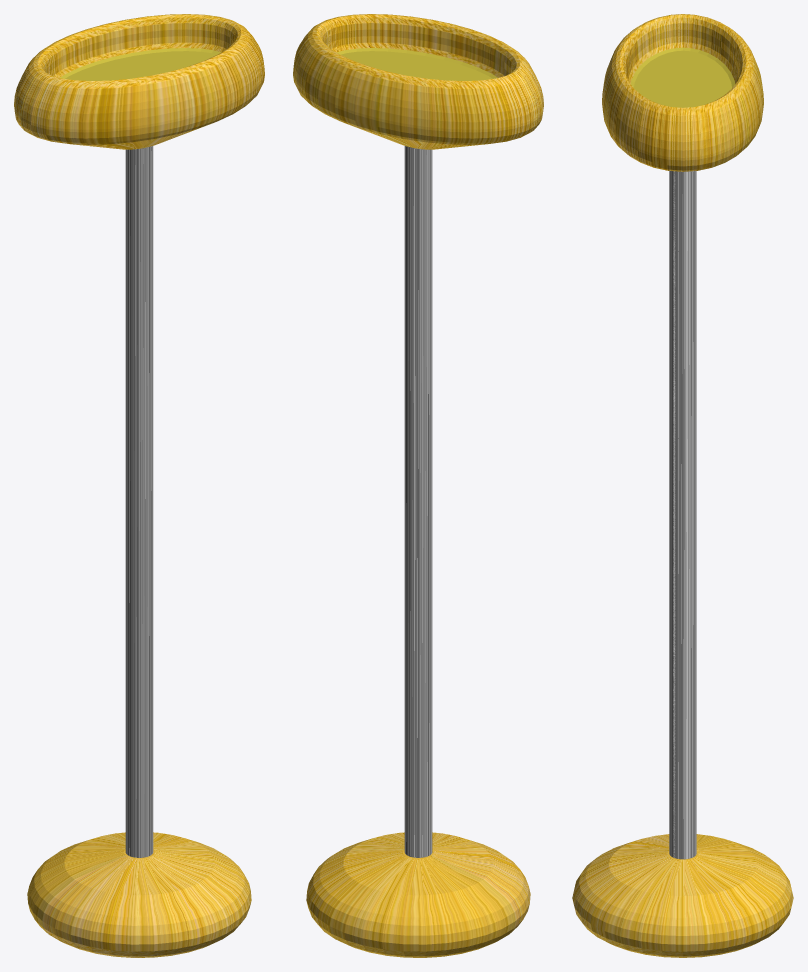
The model's file is Lampada.obj.
3 renders of one model, left to right at view 1: azimuth 30°, elevation 25°; view 2: azimuth 150°, elevation 25°; view 3: azimuth 270°, elevation 25°, orthographic.
Visible parts, largest first — view 1: Cylinder.003_Cylinder.005, Cylinder, Cylinder.001_Cylinder.002; view 2: Cylinder.003_Cylinder.005, Cylinder, Cylinder.001_Cylinder.002; view 3: Cylinder, Cylinder.003_Cylinder.005, Cylinder.001_Cylinder.002.
Boxes of the visible parts, left/top/right/bottom form: Cylinder.003_Cylinder.005: left=14, top=14, right=264, bottom=149; Cylinder: left=27, top=832, right=251, bottom=957; Cylinder.001_Cylinder.002: left=125, top=146, right=153, bottom=857; Cylinder.003_Cylinder.005: left=293, top=14, right=543, bottom=149; Cylinder: left=306, top=832, right=530, bottom=957; Cylinder.001_Cylinder.002: left=404, top=146, right=432, bottom=857; Cylinder: left=572, top=834, right=793, bottom=957; Cylinder.003_Cylinder.005: left=602, top=14, right=763, bottom=171; Cylinder.001_Cylinder.002: left=669, top=171, right=696, bottom=859.
Size of the model in its own units: 1.17 by 4.13 by 0.9606.
Materials: 3 (2 with a texture image).
